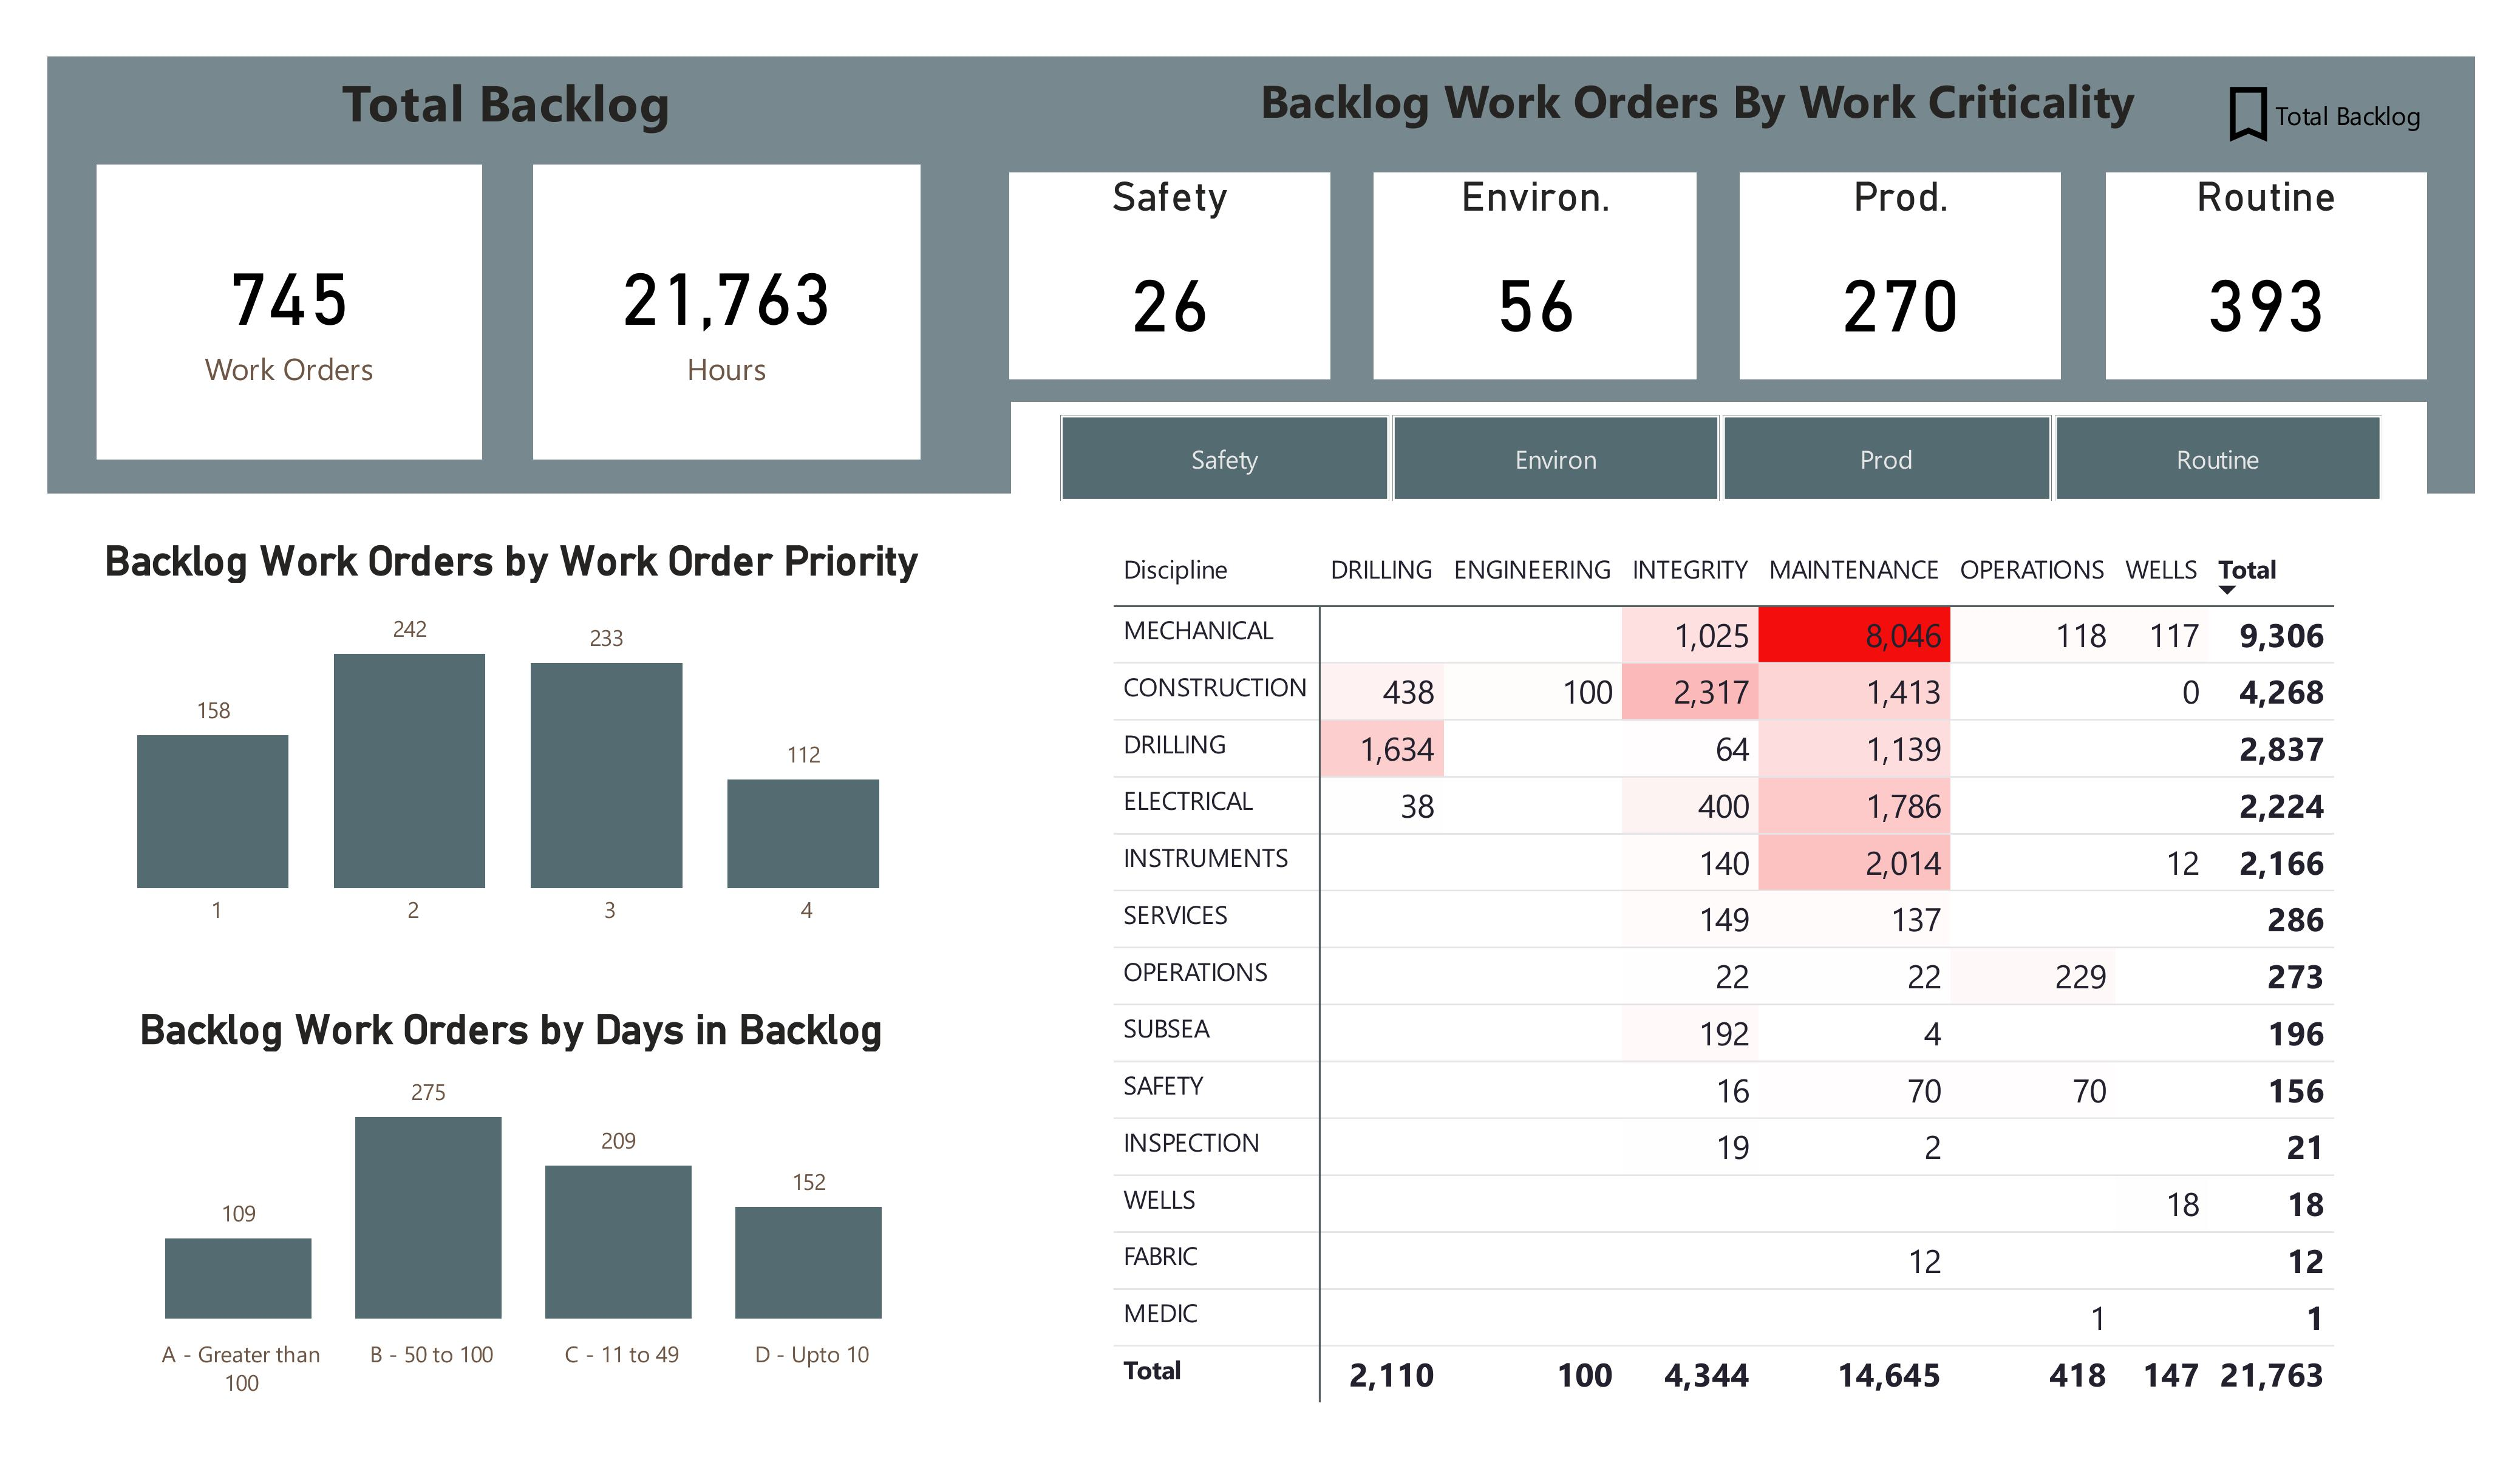

This screenshot's page, from the dashboard's own definition file:
{"tool":"powerbi","page":{"name":"Home","canvas":[1280,720],"ordinal":0},"visuals":[{"type":"shape","box":[1.1,5.7,1279.4,230.1],"z":0},{"type":"card","fields":{"Values":["WorkOrders.Backlog (count)"]},"box":[27.3,62.7,203,154.9],"z":2000},{"type":"card","fields":{"Values":["WorkOrders.Backlog (hours)"]},"box":[257.5,62.7,203.9,154.9],"z":3000},{"type":"textbox","box":[67.1,4.9,351.9,57.3],"z":4000},{"type":"card","title":"Safety","fields":{"Values":["WorkOrders.Backlog (count)"]},"box":[507.7,66.6,169.2,109.8],"z":5000},{"type":"card","title":"Environ.","fields":{"Values":["WorkOrders.Backlog (count)"]},"box":[700.3,66.6,169.2,109.8],"z":6000},{"type":"card","title":"Prod.","fields":{"Values":["WorkOrders.Backlog (count)"]},"box":[892.9,66.6,169.2,109.8],"z":7000},{"type":"card","title":"Routine","fields":{"Values":["WorkOrders.Backlog (count)"]},"box":[1085.6,66.6,169.2,109.8],"z":8000},{"type":"textbox","box":[635.5,7.2,473.5,59.4],"z":9000},{"type":"slicer","fields":{"Values":["WorkOrders.Work Criticality Description"]},"box":[509.1,188.2,746.4,58.9],"z":10000},{"type":"columnChart","title":"Backlog Work Orders by Work Order Priority","fields":{"Y":["WorkOrders.Backlog (count)"],"Category":["WorkOrders.Work Order Priority"]},"box":[1.6,258.6,487.8,214.4],"z":11000},{"type":"columnChart","title":"Backlog Work Orders by Days in Backlog","fields":{"Y":["WorkOrders.Backlog (count)"],"Category":["WorkOrders.Days In Backlog Grouping"]},"box":[1.7,505.5,486.8,214.5],"z":12000},{"type":"pivotTable","fields":{"Rows":["WorkOrders.Discipline"],"Columns":["WorkOrders.Department"],"Values":["WorkOrders.Backlog (hours) no zero"]},"box":[558.2,258.6,721.8,461.6],"z":13000},{"type":"actionButton","title":"Total Backlog","box":[1142.4,16.8,113.2,38.2],"z":14000}]}

Visuals, with their boxes in screenshot pixels (x1, y1, x2, y2):
shape: rect(47, 56, 2474, 493)
card - WorkOrders.Backlog (count): rect(97, 165, 483, 458)
card - WorkOrders.Backlog (hours): rect(534, 165, 921, 458)
textbox: rect(173, 55, 840, 163)
"Safety" card: rect(1009, 172, 1330, 380)
"Environ." card: rect(1374, 172, 1695, 380)
"Prod." card: rect(1740, 172, 2061, 380)
"Routine" card: rect(2105, 172, 2426, 380)
textbox: rect(1251, 59, 2150, 172)
slicer - WorkOrders.Work Criticality Description: rect(1012, 402, 2428, 514)
"Backlog Work Orders by Work Order Priority" columnChart: rect(49, 536, 974, 943)
"Backlog Work Orders by Days in Backlog" columnChart: rect(49, 1005, 973, 1411)
pivotTable - WorkOrders.Discipline x WorkOrders.Department: rect(1105, 536, 2474, 1411)
"Total Backlog" actionButton: rect(2213, 78, 2428, 150)
